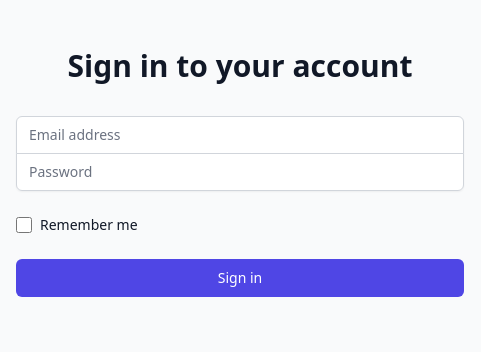
Test: LoginPage › displays error message on login failure
The width and height of the screenshot is (481, 352).
Note: Fill form with valid data
Type "test@example.com" into the field labelled "Email address". click: (240, 134)
box: [16,116,464,154]
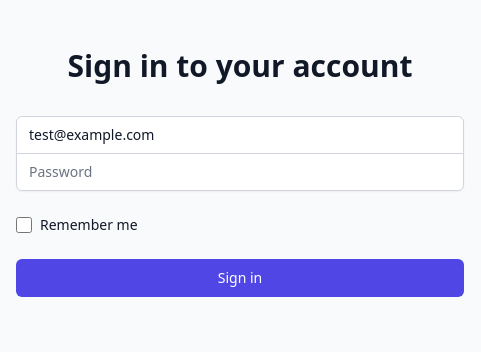
Type "password123" into the password field labelled "Password". click: (240, 172)
box: [16,152,464,190]
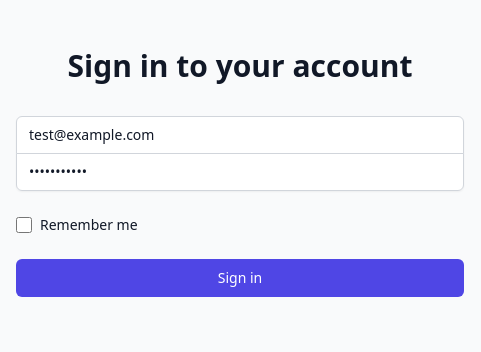
Note: Submit form
Click the button "Sign in". click: (240, 278)
box: [16,258,464,296]
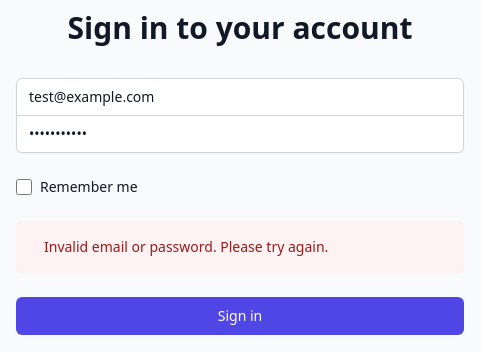
Expected: the heading "Invalid email or password. Please try again." is shown, [44,236,328,256]
